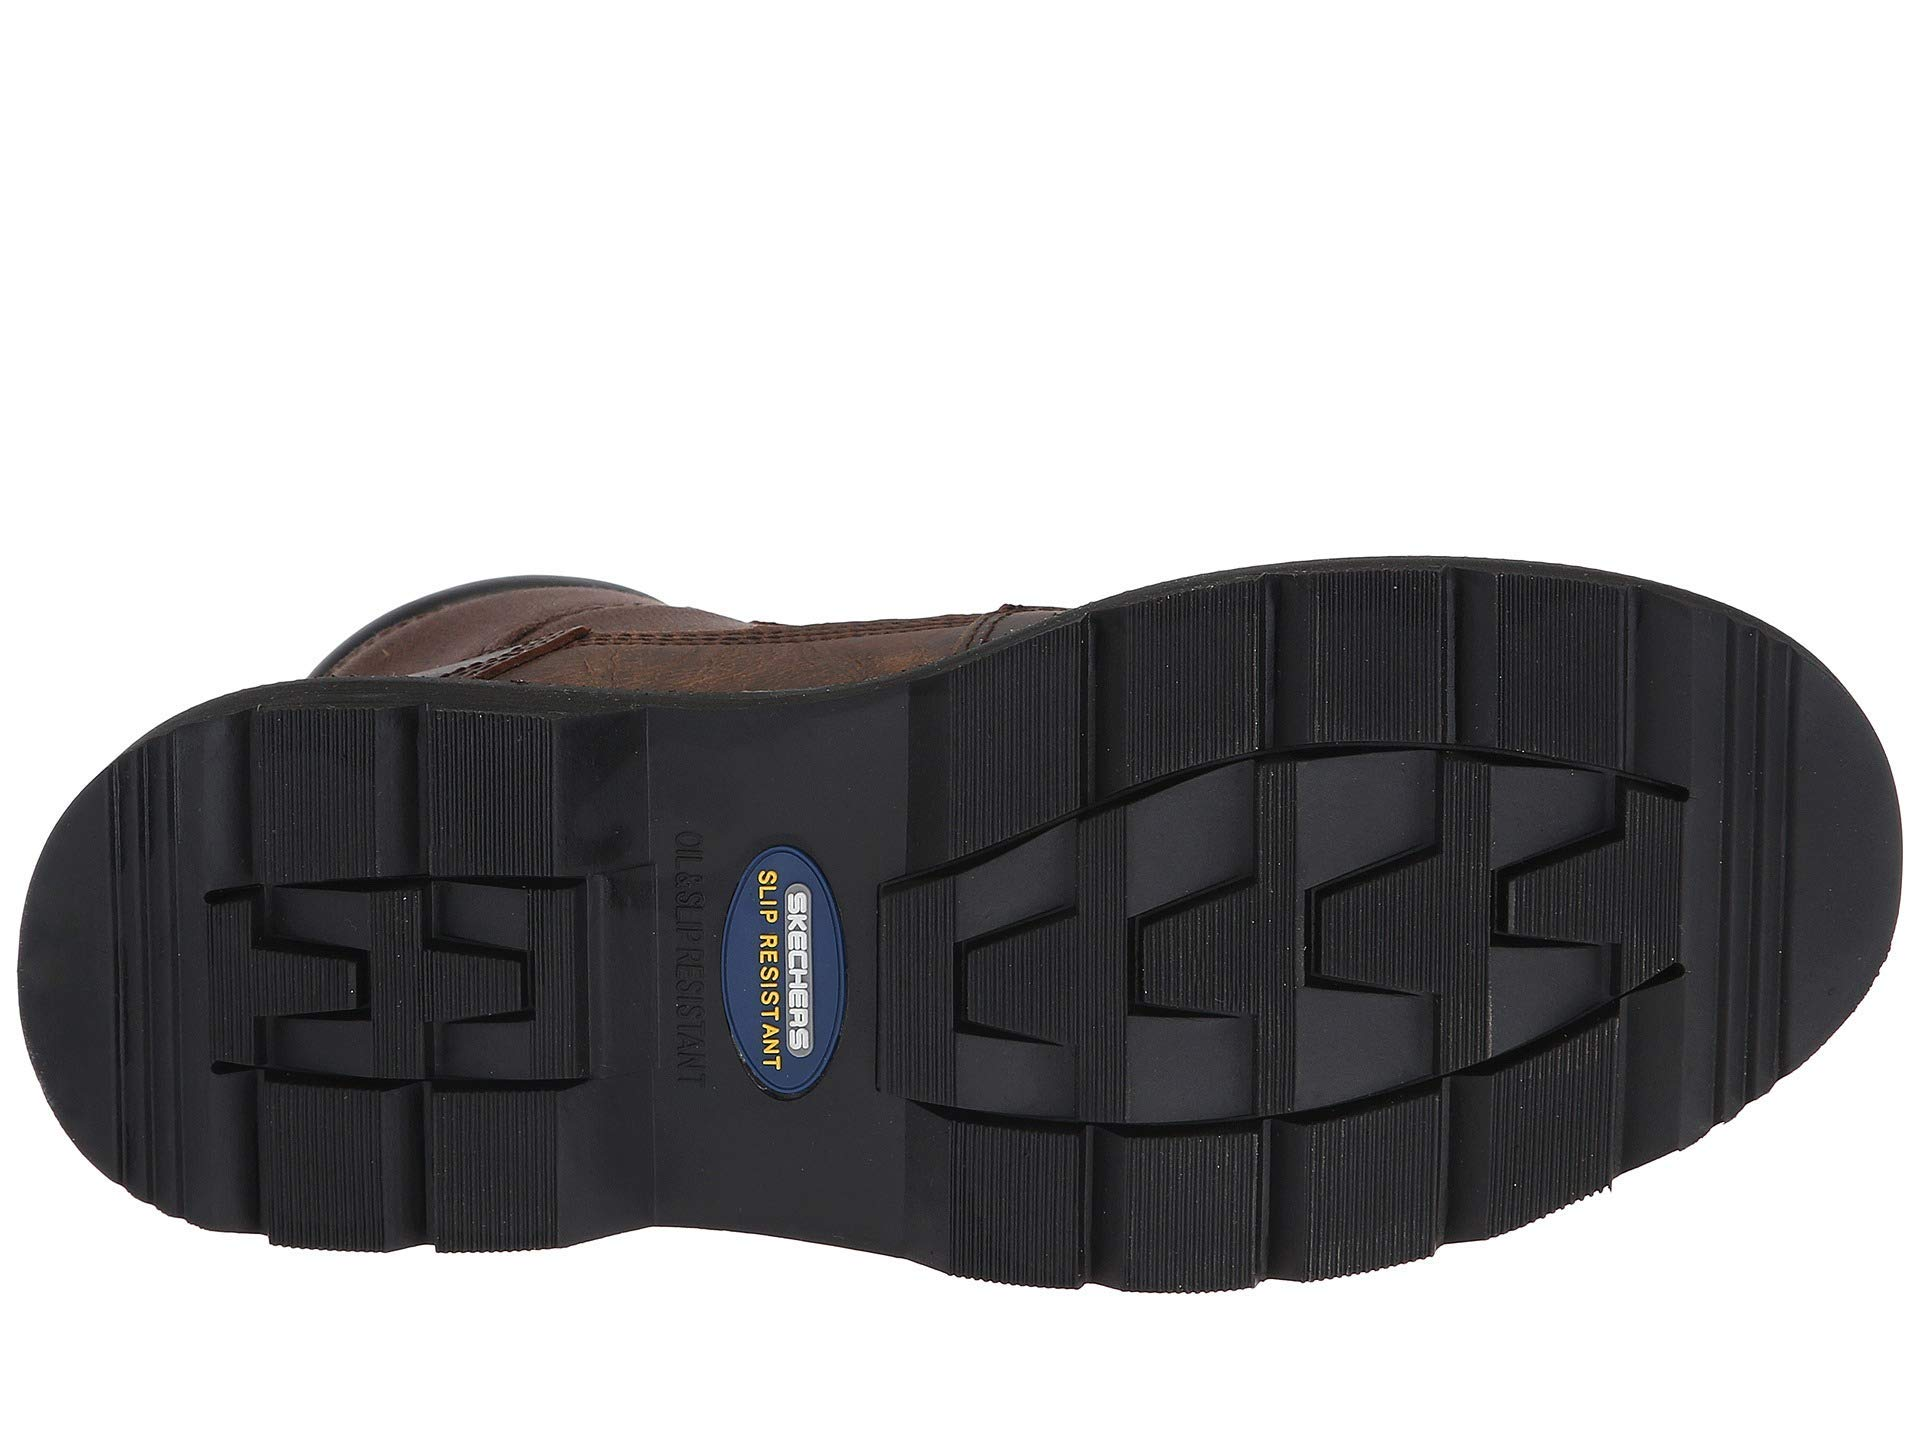circle: (652, 793, 865, 1137)
line: (91, 788, 187, 1196), (231, 690, 404, 874), (1099, 611, 1232, 752)
quad: (231, 690, 404, 874)
text: (652, 793, 865, 1137)
